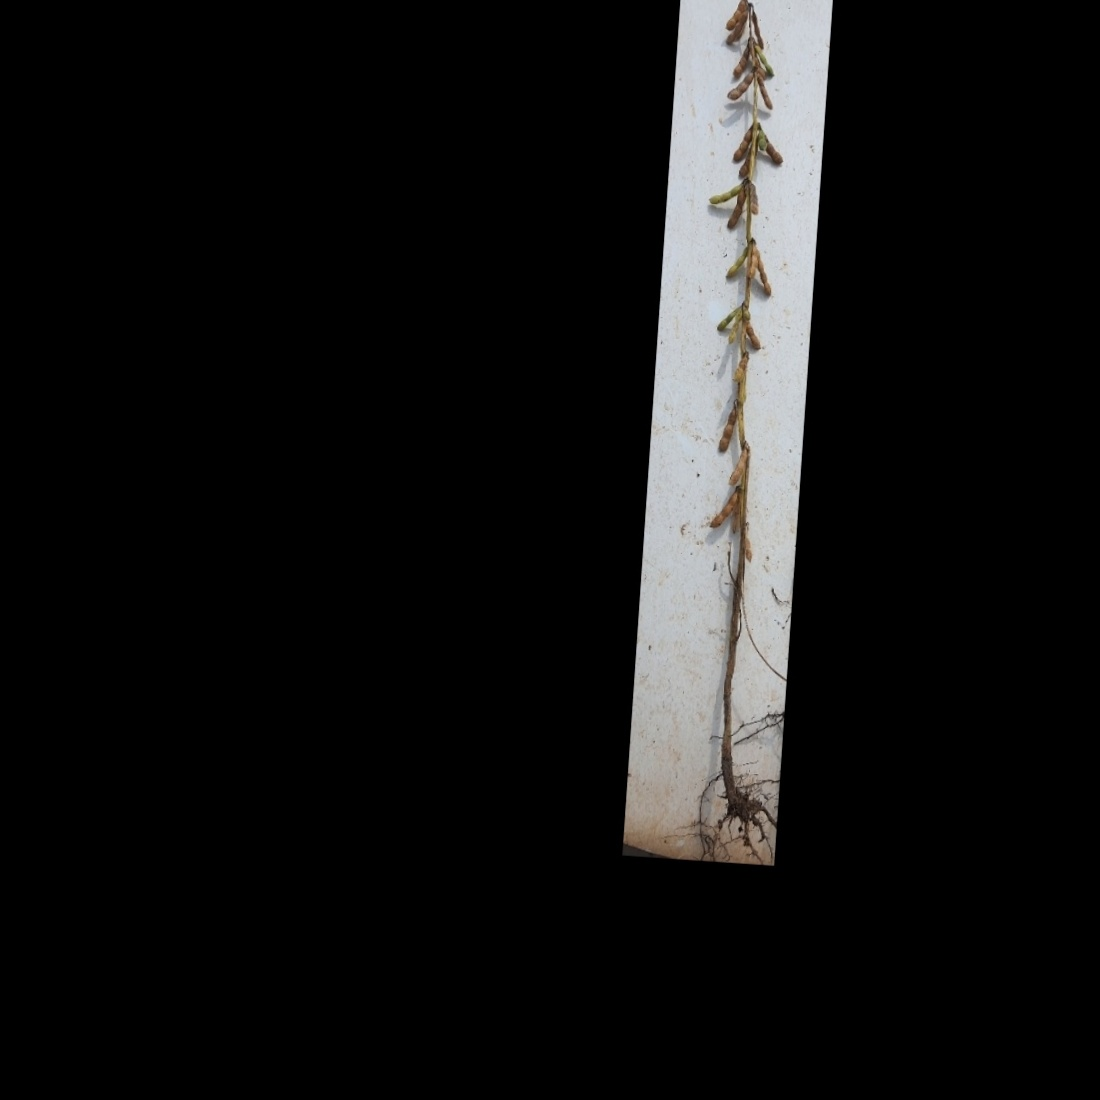pod: (707, 491, 738, 533), (707, 177, 747, 207), (726, 121, 753, 162), (723, 70, 757, 103), (717, 403, 737, 456), (725, 188, 749, 233), (724, 241, 749, 282), (726, 444, 749, 488), (754, 252, 775, 300), (753, 77, 777, 114), (731, 39, 751, 79), (747, 7, 766, 50), (754, 44, 776, 76), (727, 311, 745, 346), (744, 318, 764, 351), (741, 535, 757, 565)
soy: (642, 0, 817, 845)
